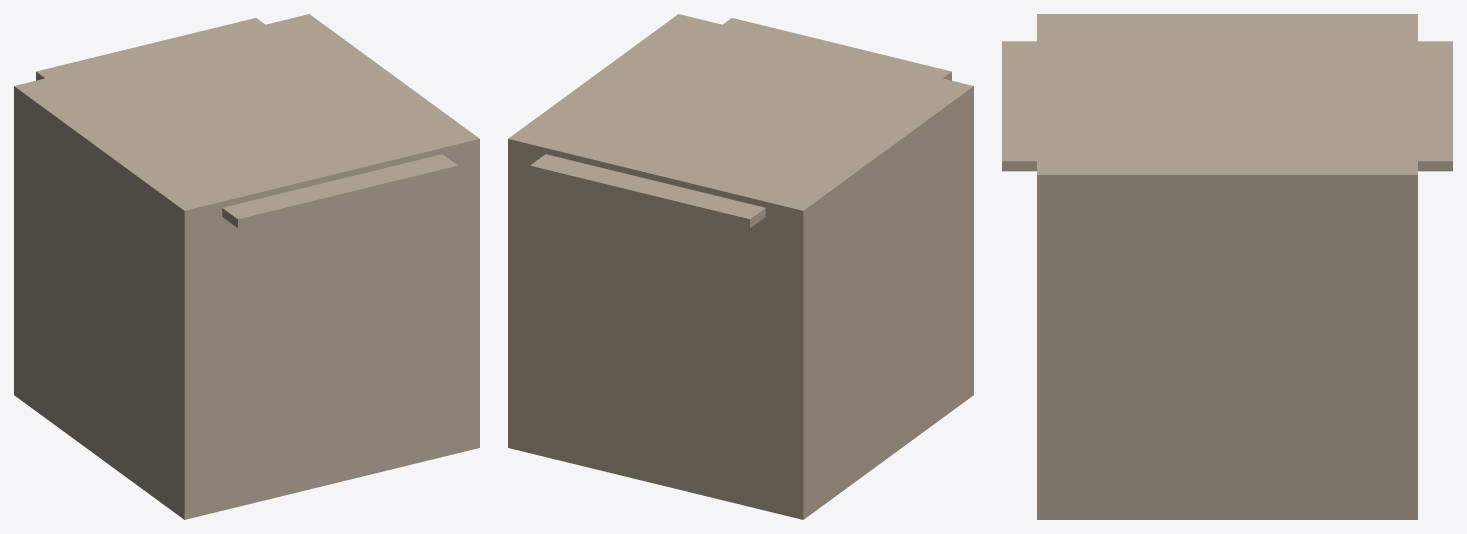
The model's file is 3dcodebench_SimpleDesk_seed0_L4_Q0__haiku45.glb.
3 renders of one model, left to right at view 1: azimuth 30°, elevation 25°; view 2: azimuth 150°, elevation 25°; view 3: azimuth 270°, elevation 25°, orthographic. The views are drawn at different scales.
Parts seen in each view (by area): view 1: object; view 2: object; view 3: object.
Boxes of the visible parts, <box> form: object: <box>14,14,479,519</box>; object: <box>508,14,973,519</box>; object: <box>1002,14,1452,519</box>.
Bounding box in the file's own units: 1 × 1 × 1.18.
